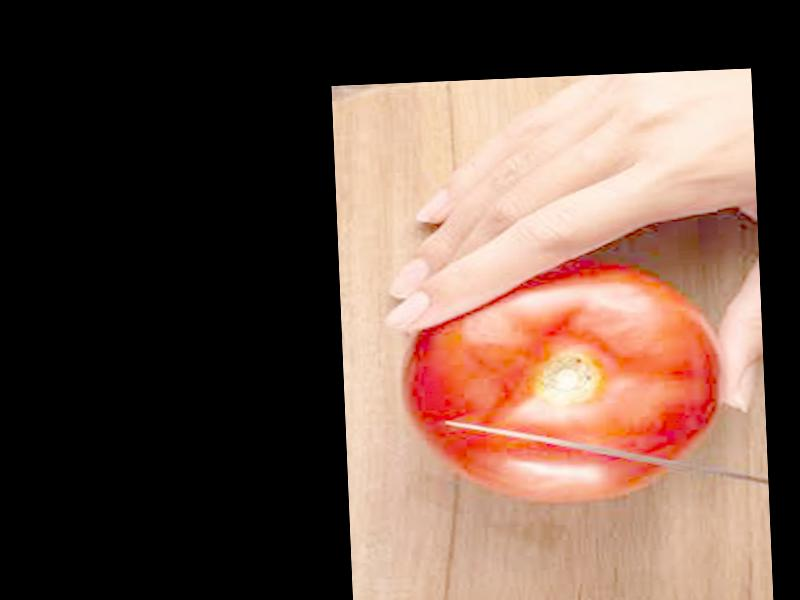Tomato: (399, 251, 724, 503)
